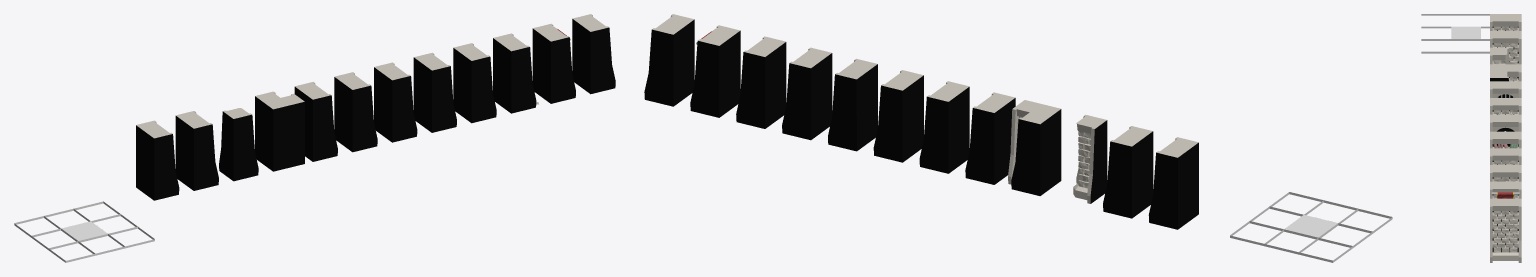
Rendered from iso_dungeon_walls___blender_by_pfunked_d29p4hn.fbx.
The picture shows the model from 3 angles, left to right: view 1: azimuth 30°, elevation 25°; view 2: azimuth 150°, elevation 25°; view 3: azimuth 270°, elevation 25°; orthographic projection. The views are drawn at different scales.
Visible parts, largest first — view 1: Cube.005, Cube.010, Cube.007, Cube, Cube.003, Cube.011, Cube.008, Cube.009, Cube.006, Cube.004, Cube.001, Cube.002 (+2 smaller); view 2: Cube.005, Cube, Cube.010, Cube.008, Cube.009, Cube.011, Cube.003, Cube.006, Cube.004, Cube.007, Cube.002, Cube.001 (+2 smaller); view 3: Cube.011, Cube, Plane, Cube.010, Cube.007, Cube.006, Cube.005, Cube.009, Cube.008, Cube.003, Cube.002, Cube.004 (+2 smaller).
Boxes of the visible parts, bbox=[...] form: Cube.005: bbox=[255, 91, 304, 171]; Cube.010: bbox=[532, 23, 575, 103]; Cube.007: bbox=[413, 52, 456, 132]; Cube: bbox=[175, 111, 218, 190]; Cube.003: bbox=[334, 72, 377, 152]; Cube.011: bbox=[572, 14, 615, 94]; Cube.008: bbox=[453, 43, 496, 123]; Cube.009: bbox=[493, 33, 538, 113]; Cube.006: bbox=[374, 62, 417, 142]; Cube.004: bbox=[136, 120, 179, 200]; Cube.001: bbox=[219, 108, 258, 181]; Cube.002: bbox=[294, 81, 337, 161]; Cube.005: bbox=[1008, 100, 1061, 195]; Cube: bbox=[1103, 126, 1153, 218]; Cube.010: bbox=[690, 25, 740, 117]; Cube.008: bbox=[782, 47, 832, 140]; Cube.009: bbox=[736, 36, 786, 128]; Cube.011: bbox=[644, 14, 694, 106]; Cube.003: bbox=[919, 81, 969, 173]; Cube.006: bbox=[873, 70, 923, 162]; Cube.004: bbox=[1148, 137, 1198, 229]; Cube.007: bbox=[828, 58, 877, 151]; Cube.002: bbox=[965, 92, 1015, 184]; Cube.001: bbox=[1073, 114, 1107, 203]; Cube.011: bbox=[1490, 198, 1521, 262]; Cube: bbox=[1490, 31, 1521, 64]; Plane: bbox=[1421, 14, 1489, 53]; Cube.010: bbox=[1490, 181, 1521, 198]; Cube.007: bbox=[1490, 131, 1521, 148]; Cube.006: bbox=[1490, 114, 1521, 131]; Cube.005: bbox=[1490, 64, 1521, 81]; Cube.009: bbox=[1490, 165, 1521, 181]; Cube.008: bbox=[1490, 148, 1521, 164]; Cube.003: bbox=[1490, 98, 1521, 114]; Cube.002: bbox=[1490, 81, 1521, 97]; Cube.004: bbox=[1490, 14, 1521, 30].
Size of the model in its own units: 2972 by 310 by 505.
